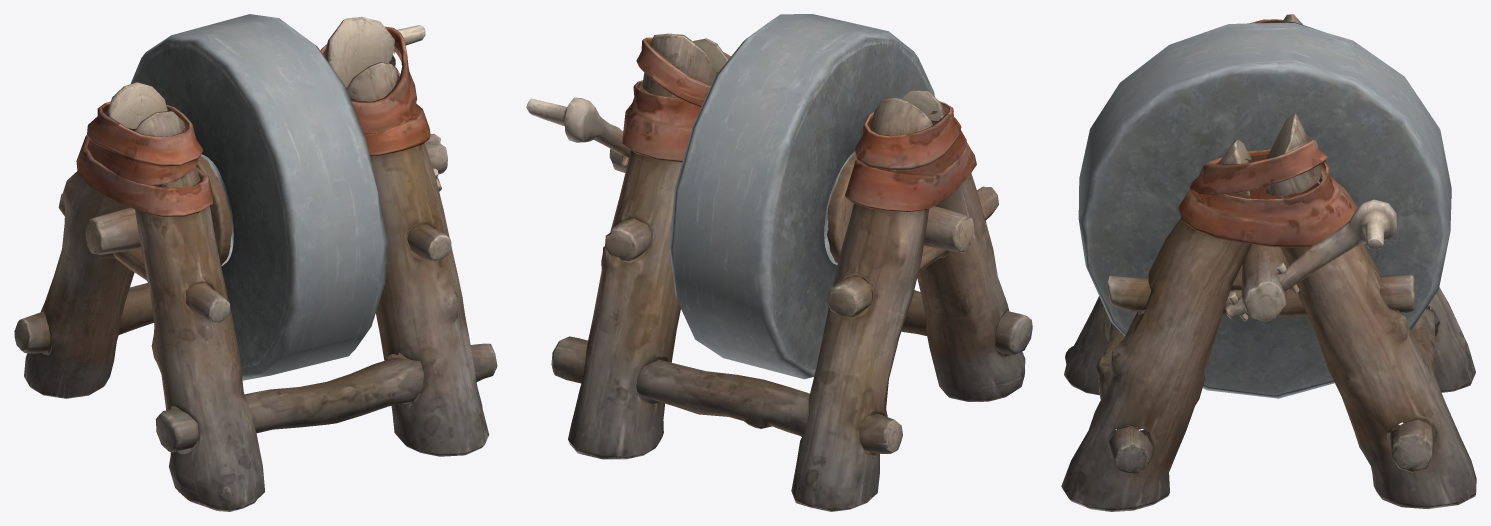
3 views of the same model, side by side, from view 1: azimuth 30°, elevation 25°; view 2: azimuth 150°, elevation 25°; view 3: azimuth 270°, elevation 25° (orthographic). The views are drawn at different scales.
Visible parts, largest first — view 1: SM_Whetstone_01_LOD0; view 2: SM_Whetstone_01_LOD0; view 3: SM_Whetstone_01_LOD0.
Boxes of the visible parts, bbox=[...] form: SM_Whetstone_01_LOD0: bbox=[14, 14, 497, 511]; SM_Whetstone_01_LOD0: bbox=[526, 14, 1032, 511]; SM_Whetstone_01_LOD0: bbox=[1061, 14, 1476, 511].
Bounding box in the file's own units: 0.9734 × 0.9085 × 0.8732.
1 material, 1 textured.
